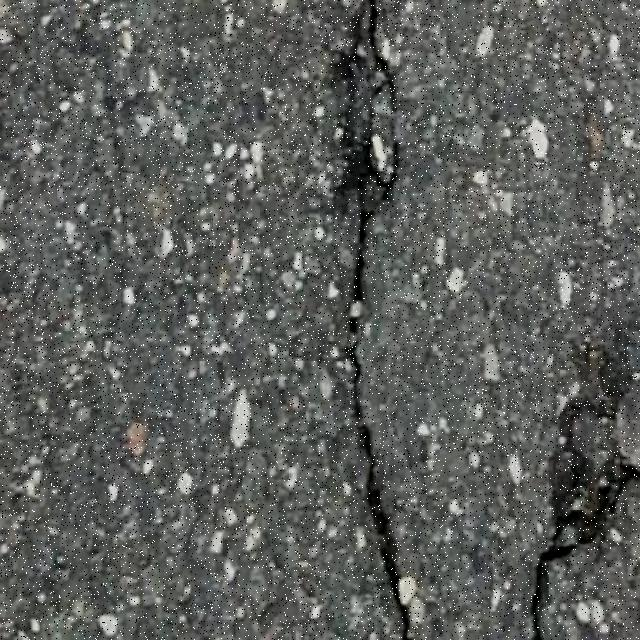Crack: (338, 0, 405, 639), (530, 402, 640, 639)
